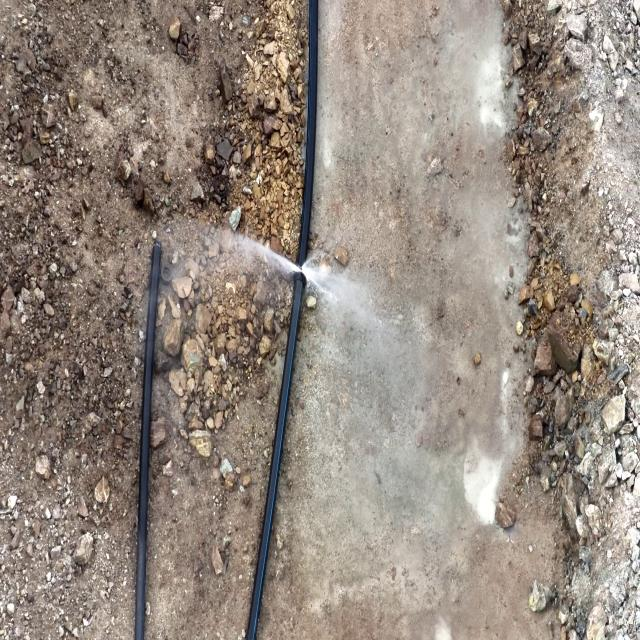leak: (185, 224, 354, 319)
